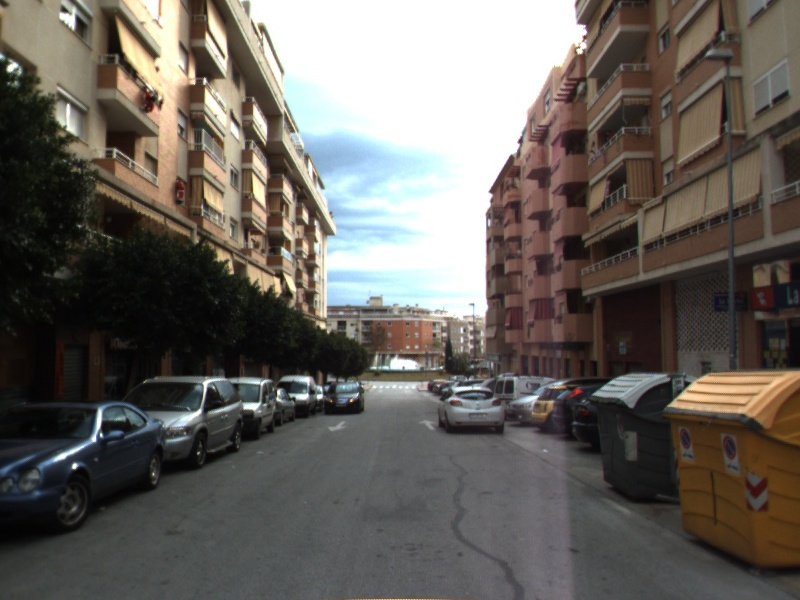STRAIGHT: (417, 418, 438, 432)
